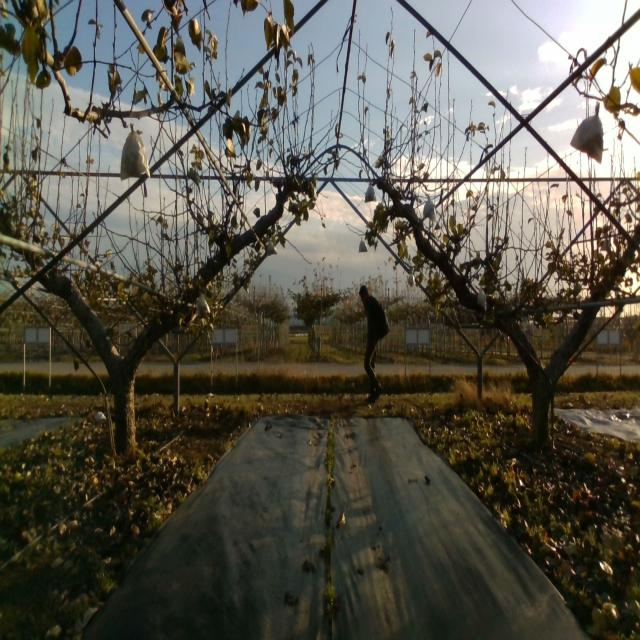pearbags: (358, 284, 390, 404), (570, 101, 604, 164), (120, 131, 150, 181), (196, 294, 211, 318), (422, 197, 436, 221), (364, 183, 377, 205), (476, 288, 488, 311)
